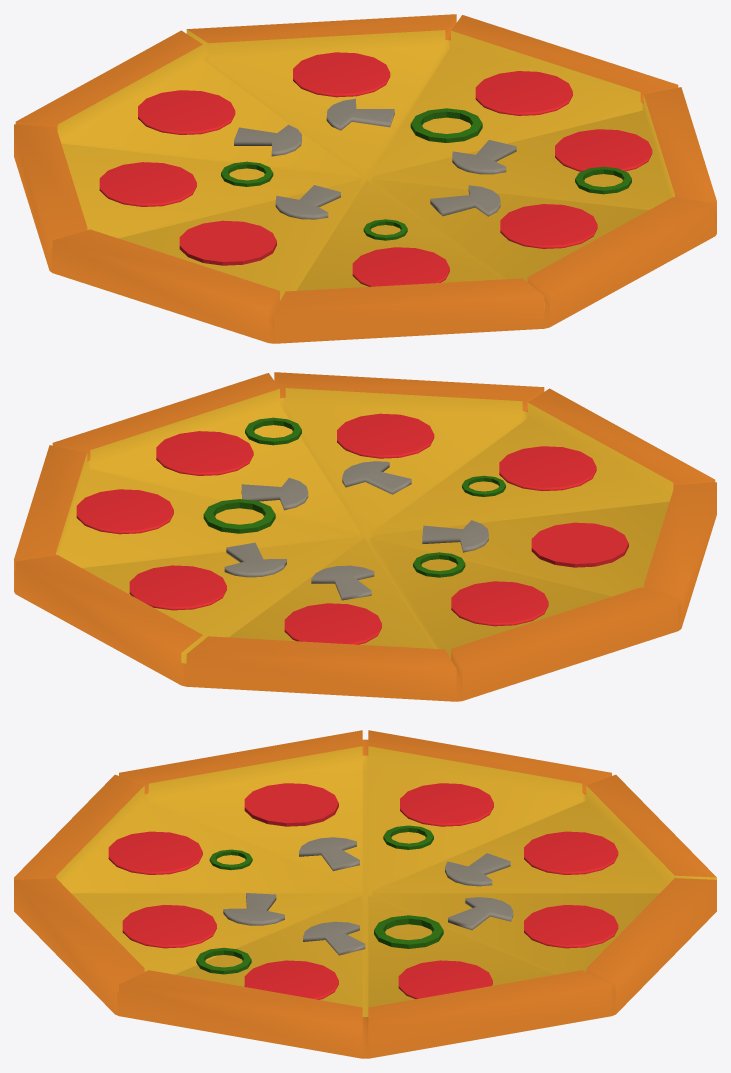
Rendered from pizza 1.fbx.
The picture shows the model from 3 angles, top to bottom: view 1: azimuth 30°, elevation 25°; view 2: azimuth 150°, elevation 25°; view 3: azimuth 270°, elevation 25°; orthographic projection. The views are drawn at different scales.
Parts seen in each view (by area): view 1: Cylinder.006; view 2: Cylinder.006; view 3: Cylinder.006.
Part boxes in pixels (x1=…): Cylinder.006: x1=14, y1=14, x2=716, y2=343; Cylinder.006: x1=14, y1=372, x2=716, y2=701; Cylinder.006: x1=14, y1=730, x2=716, y2=1058.
Bounding box in the file's own units: 199 × 10.45 × 199.
